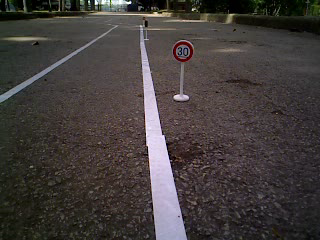limit 30: (170, 38, 196, 63)
